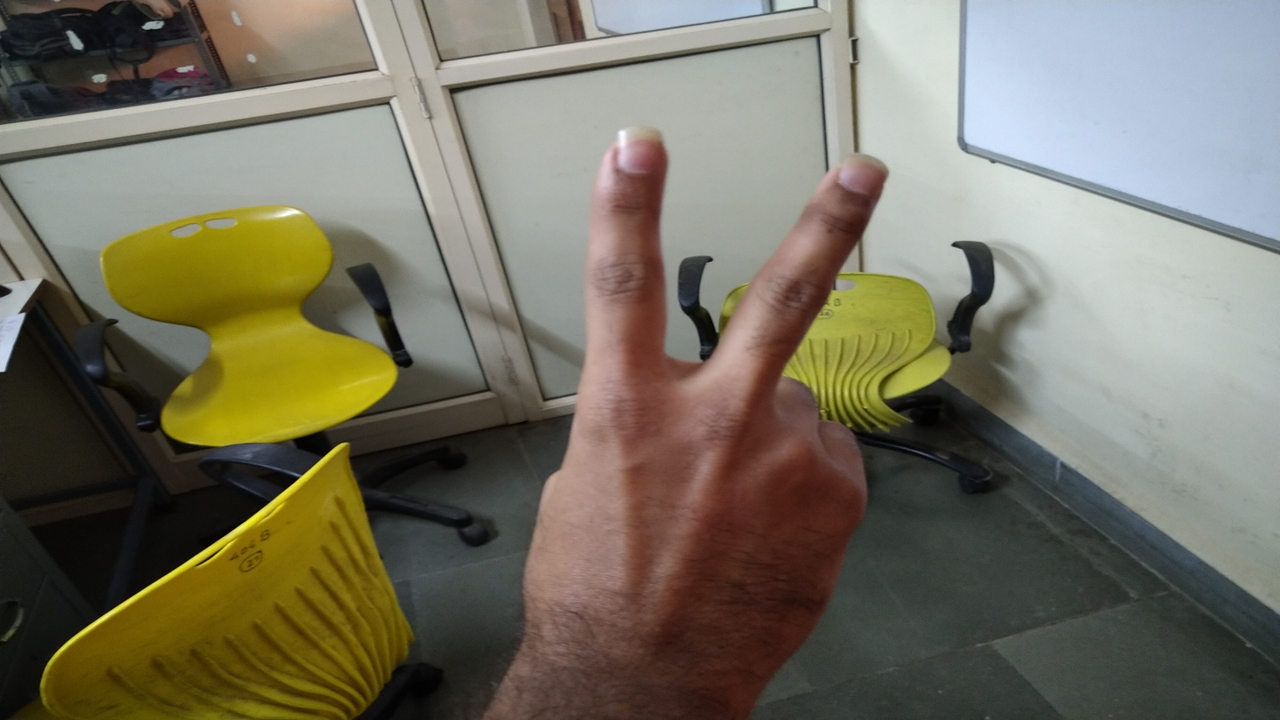fingertip: (598, 120, 670, 192), (828, 144, 896, 204)
